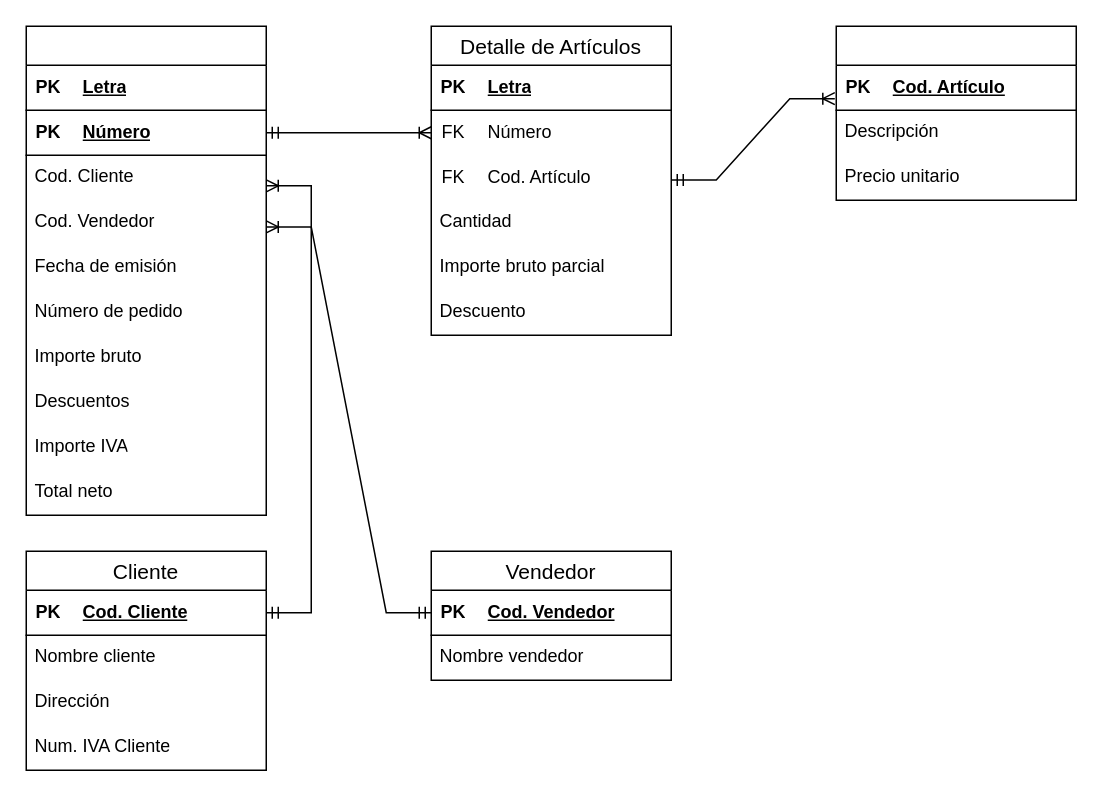
This 1103x801 diagram has some shape labels left out. Here are the shapes that lost their labels. From the top down, the box of each, then its label:
(835, 25, 1076, 200): Articulo
(25, 25, 266, 515): Factura
